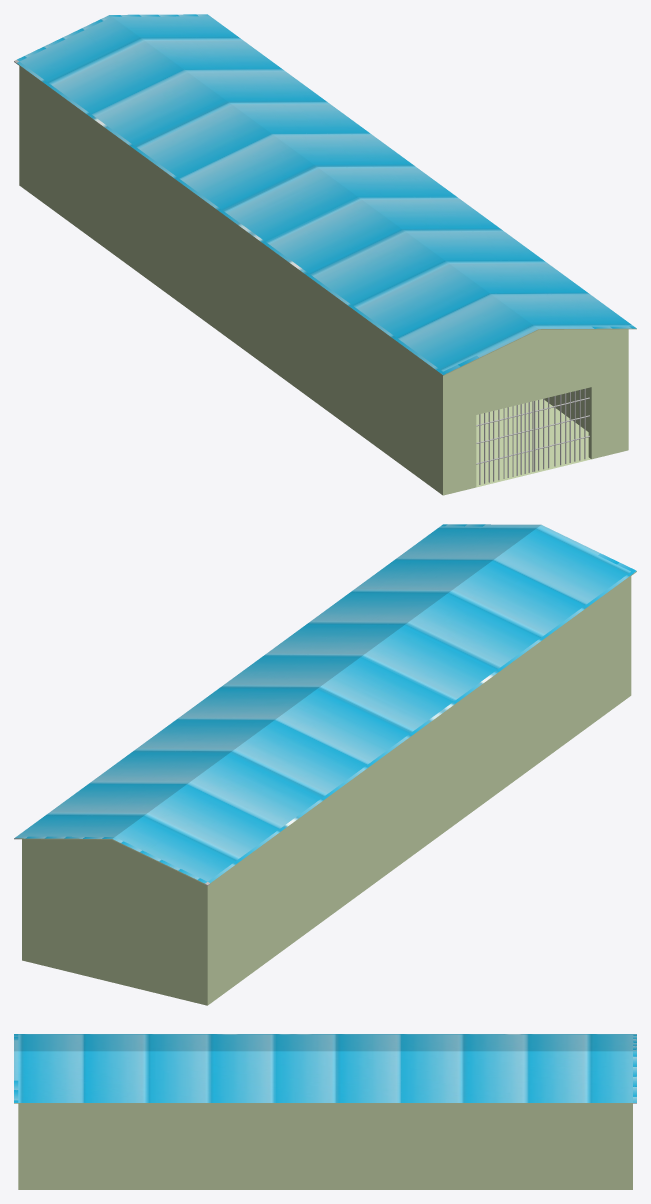
File: recycle_warehouse.fbx
The picture shows the model from 3 angles, top to bottom: view 1: azimuth 30°, elevation 25°; view 2: azimuth 150°, elevation 25°; view 3: azimuth 270°, elevation 25°; orthographic projection. The views are drawn at different scales.
Visible parts, largest first — view 1: 廢料倉; view 2: 廢料倉; view 3: 廢料倉.
Boxes of the visible parts, x1=… form: 廢料倉: x1=14, y1=14, x2=636, y2=495; 廢料倉: x1=14, y1=524, x2=636, y2=1005; 廢料倉: x1=14, y1=1034, x2=636, y2=1189.
Size of the model in its own units: 749 by 546 by 2877.
Materials: 3 (1 with a texture image).
